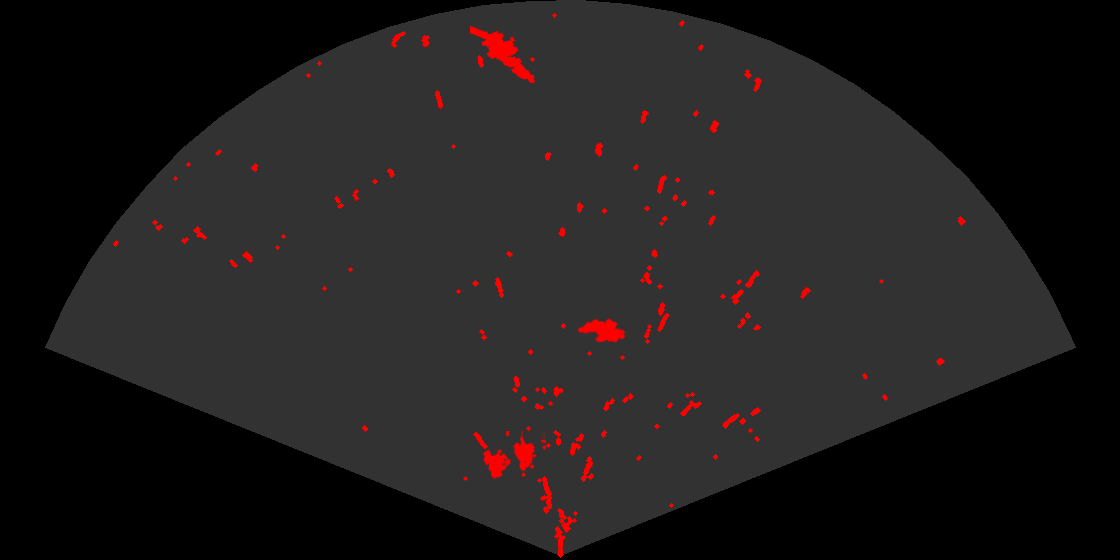AUV: (576, 317, 627, 344)
cage: (481, 431, 546, 481)
frogman: (470, 24, 537, 85)
